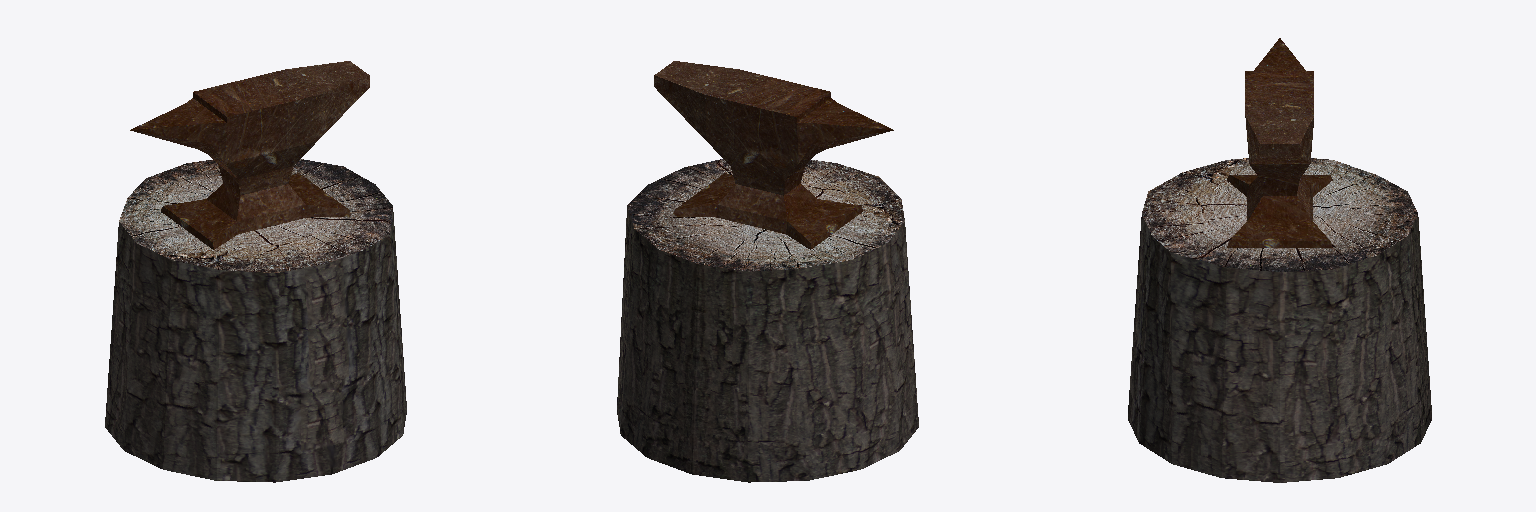
3 views of the same model, side by side, from view 1: azimuth 30°, elevation 25°; view 2: azimuth 150°, elevation 25°; view 3: azimuth 270°, elevation 25° (orthographic).
Parts seen in each view (by area): view 1: skin; view 2: skin; view 3: skin.
Part boxes in pixels (x1,y1,x2,y2): skin: (105, 61, 406, 482); skin: (617, 61, 918, 482); skin: (1128, 38, 1431, 482).
Bounding box in the file's own units: 2.29 × 2.7 × 2.29.
1 materials, 1 textured.